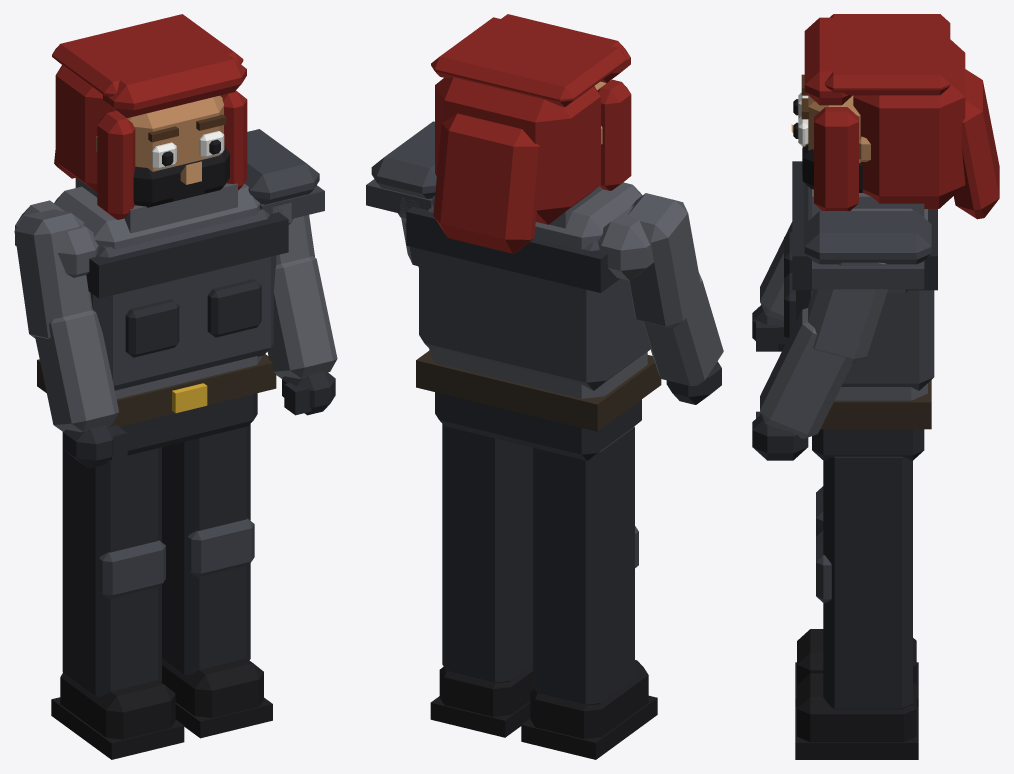
The model's file is char_raider.glb.
3 renders of one model, left to right at view 1: azimuth 30°, elevation 25°; view 2: azimuth 150°, elevation 25°; view 3: azimuth 270°, elevation 25°, orthographic. The views are drawn at different scales.
Parts seen in each view (by area): view 1: char_raider; view 2: char_raider; view 3: char_raider.
Boxes of the visible parts, x1,y1,x2,y2 form: char_raider: (14, 14, 337, 759); char_raider: (366, 14, 723, 759); char_raider: (752, 14, 999, 759).
Size of the model in its own units: 0.87 by 2 by 0.6617.
